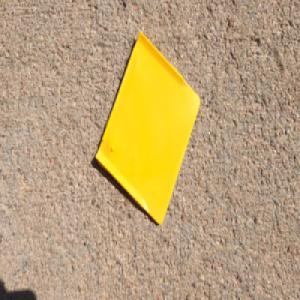PlasticPart: (92, 28, 200, 228)
